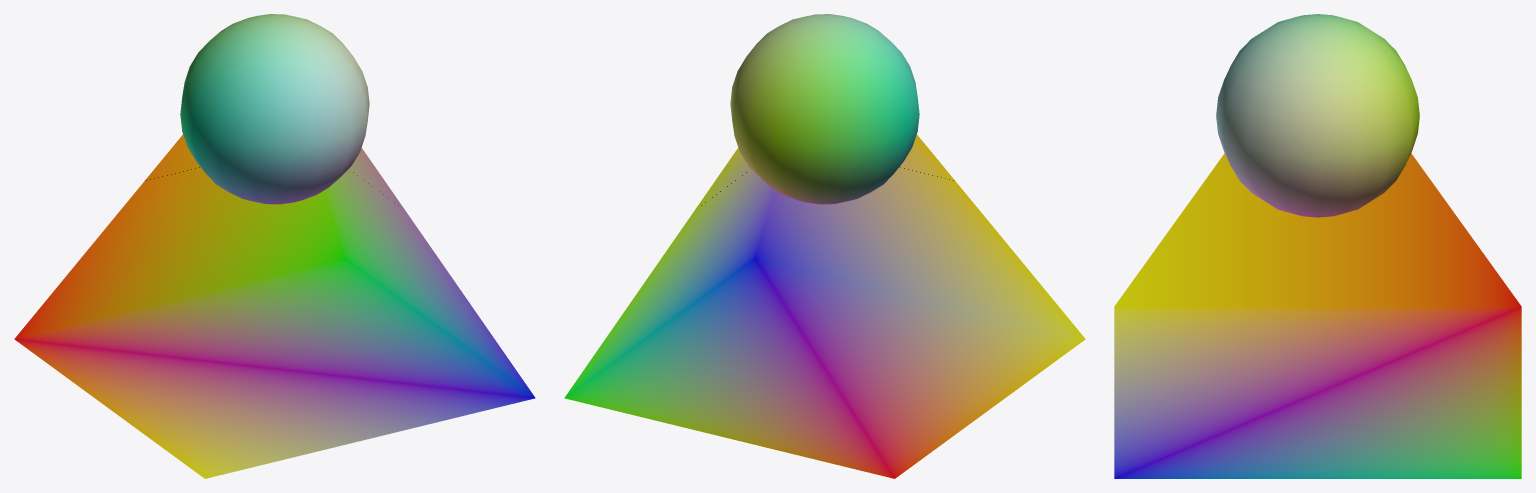
File: studio_test_model.glb
3 renders of one model, left to right at view 1: azimuth 30°, elevation 25°; view 2: azimuth 150°, elevation 25°; view 3: azimuth 270°, elevation 25°, orthographic. The views are drawn at different scales.
Parts seen in each view (by area): view 1: StudioTestModel; view 2: StudioTestModel; view 3: StudioTestModel.
Boxes of the visible parts, box(x1,y1,x2,y2) form: StudioTestModel: box(14, 14, 535, 478); StudioTestModel: box(564, 14, 1085, 478); StudioTestModel: box(1114, 14, 1521, 478).
Size of the model in its own units: 2 by 2 by 2.
